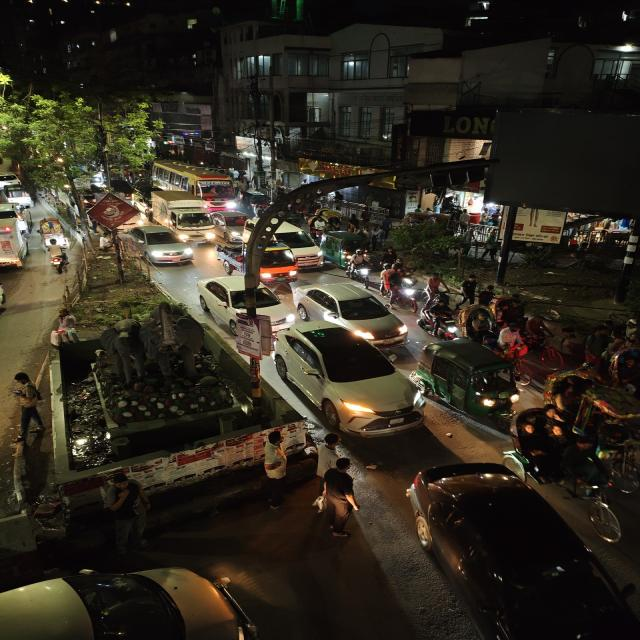bus: (153, 161, 241, 205)
car: (401, 460, 638, 640), (1, 560, 273, 640), (273, 322, 421, 437), (294, 280, 409, 344), (200, 276, 293, 327), (133, 224, 197, 268), (282, 230, 322, 268), (213, 210, 250, 241), (0, 172, 23, 187)
cng: (425, 339, 526, 415), (320, 229, 370, 264), (2, 186, 35, 209)
motorcycle: (423, 294, 465, 340), (382, 271, 422, 311), (43, 239, 71, 276), (342, 253, 374, 284)
pedestrian: (310, 456, 366, 542), (92, 477, 154, 550), (4, 374, 52, 451), (255, 432, 294, 498), (476, 284, 498, 312), (459, 276, 480, 304)
pickup_van: (217, 245, 300, 282)
rickshaw: (36, 214, 71, 248)
truck: (149, 190, 217, 238), (0, 217, 29, 273)
